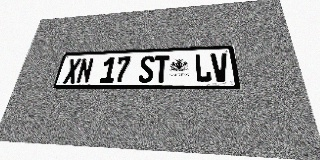1: (99, 57, 117, 83)
7: (113, 57, 131, 83)
L: (194, 53, 212, 82)
N: (76, 58, 94, 84)
S: (138, 56, 155, 83)
T: (153, 55, 169, 83)
V: (210, 53, 230, 82)
X: (63, 58, 82, 84)
